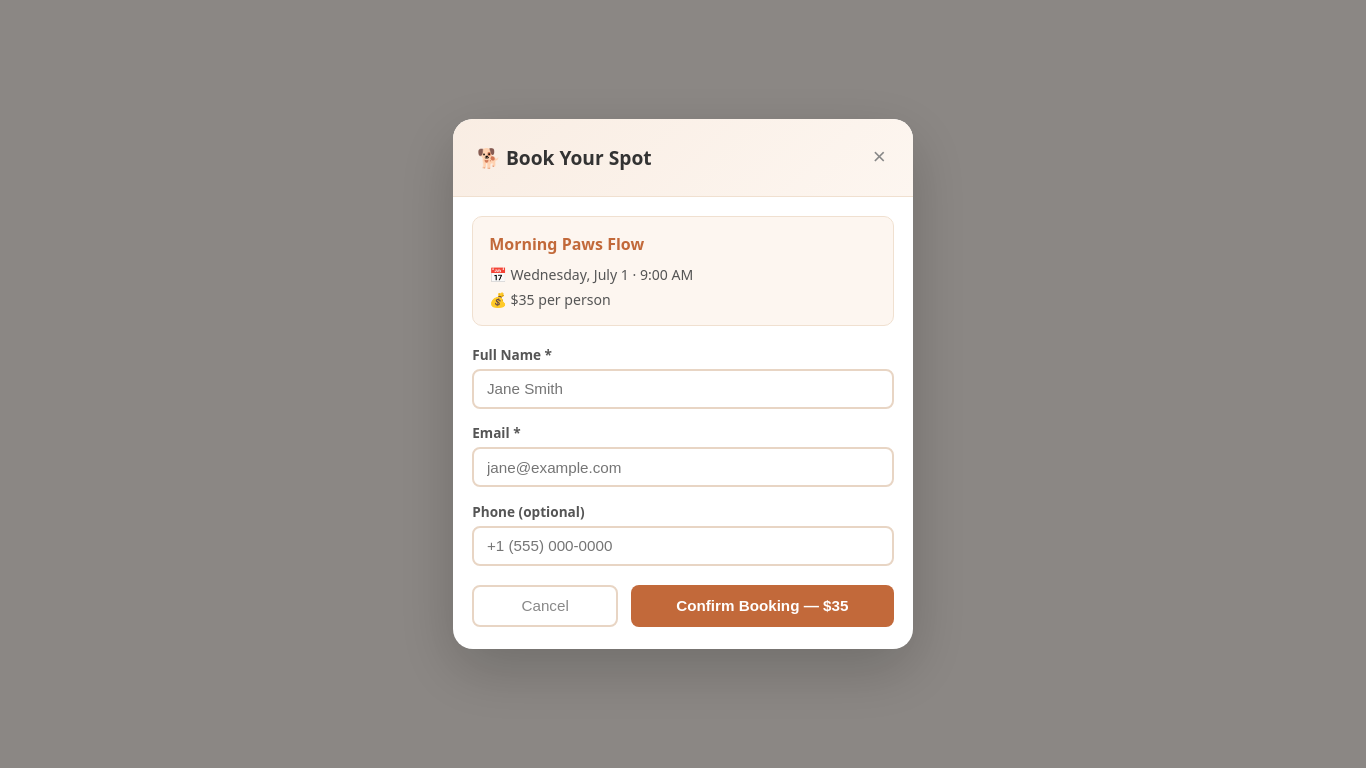
BookingModal › shows email error when email is empty on submit
In the field with placeholder "Jane Smith": (683, 389) [472, 369, 894, 409], type "Alice"
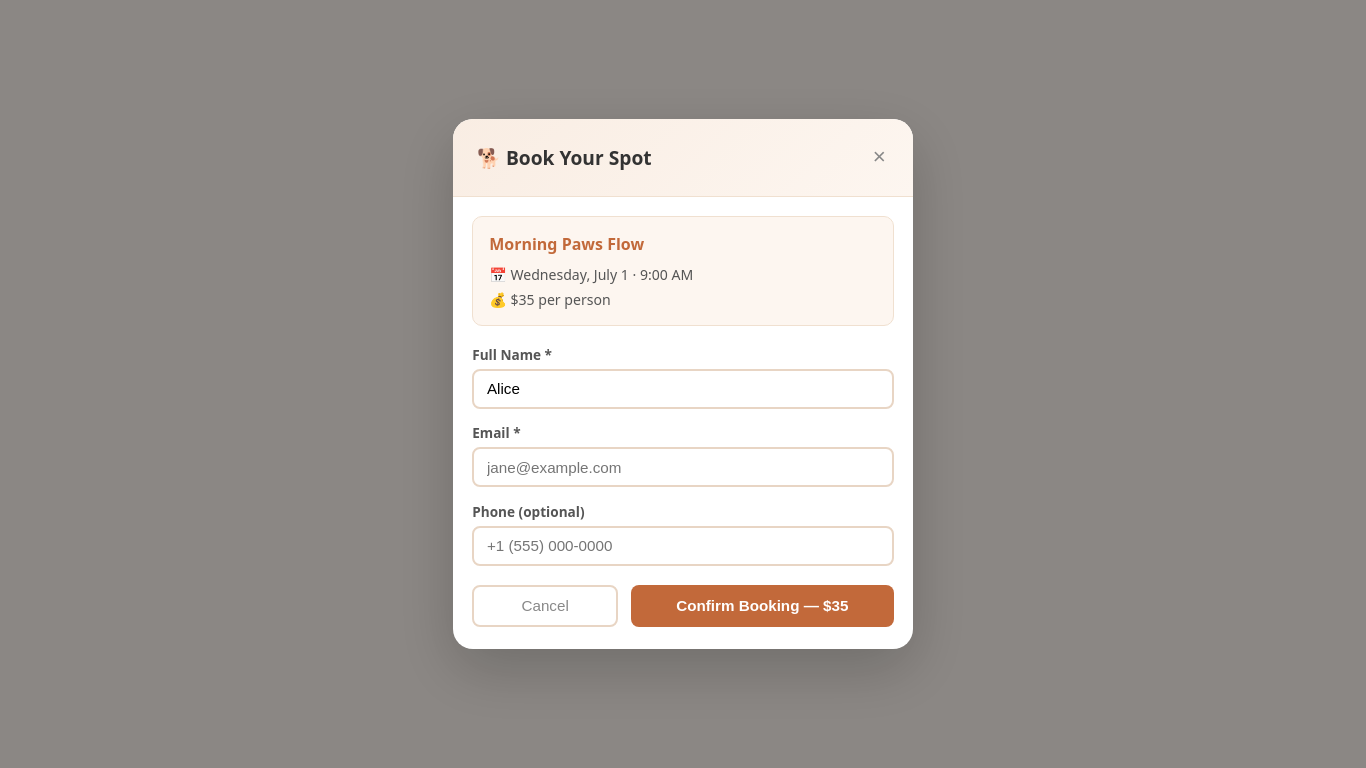
Click the button "Confirm Booking — $35": (762, 606) [631, 585, 894, 627]
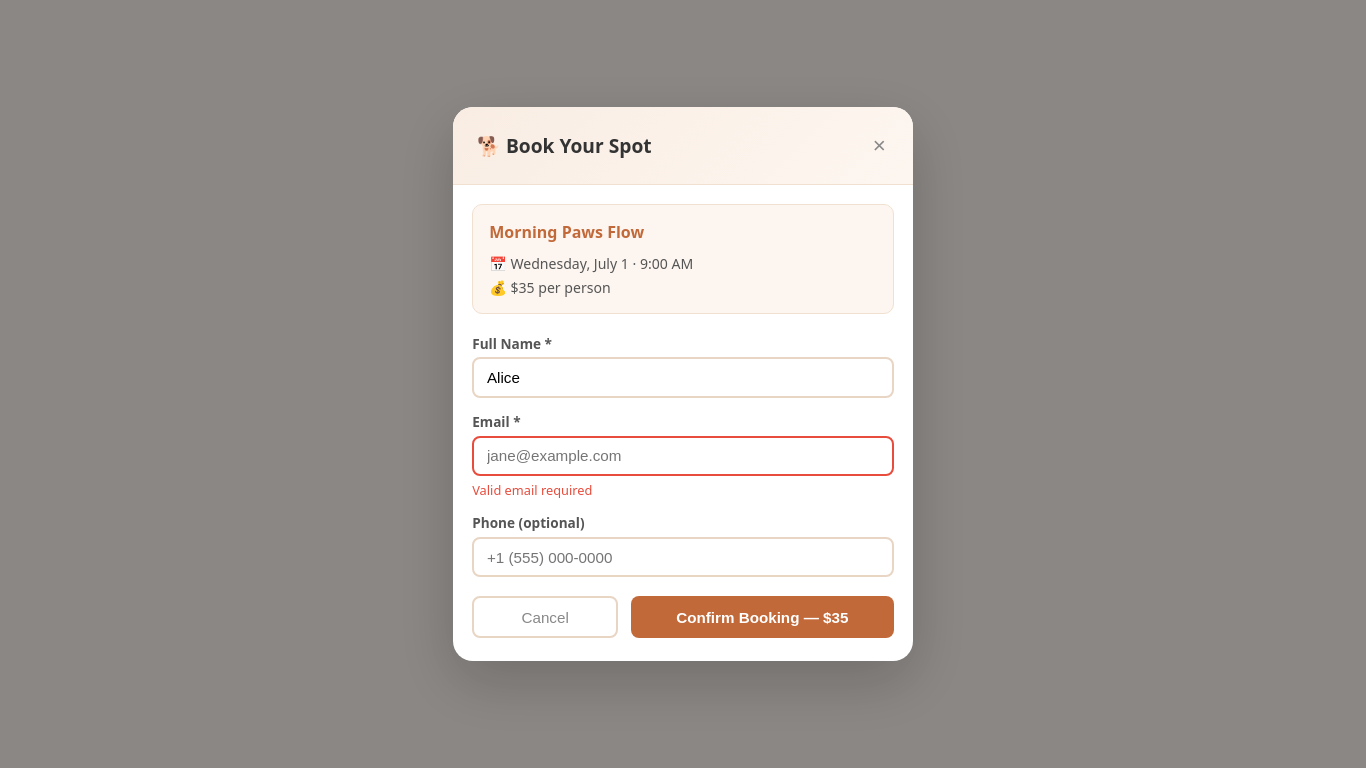
Result: the text "Valid email required" is shown at [472, 481, 592, 499]
